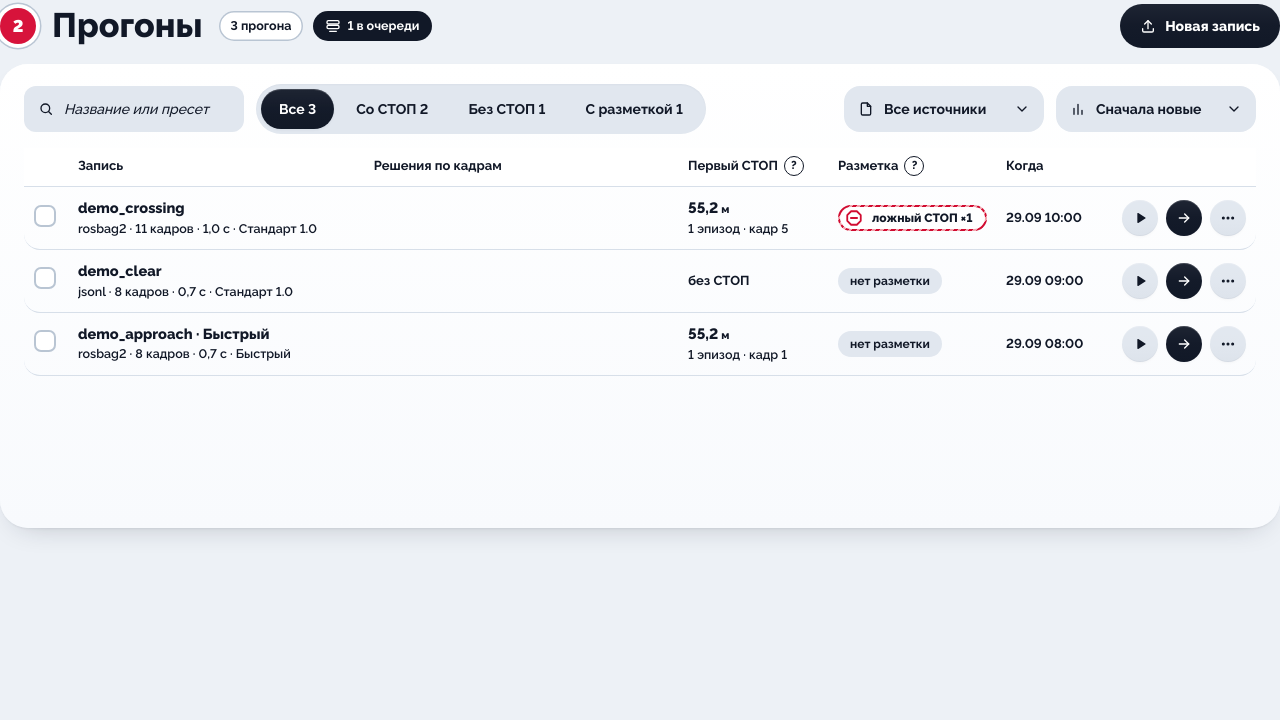
Прогоны › renames a run inline and deletes one after confirming
Expected: the link "demo_clear" is shown, [78,262,162,279]
Click the button named "Действия: demo_clear".
click(1228, 281)  # box [1210,263,1246,299]
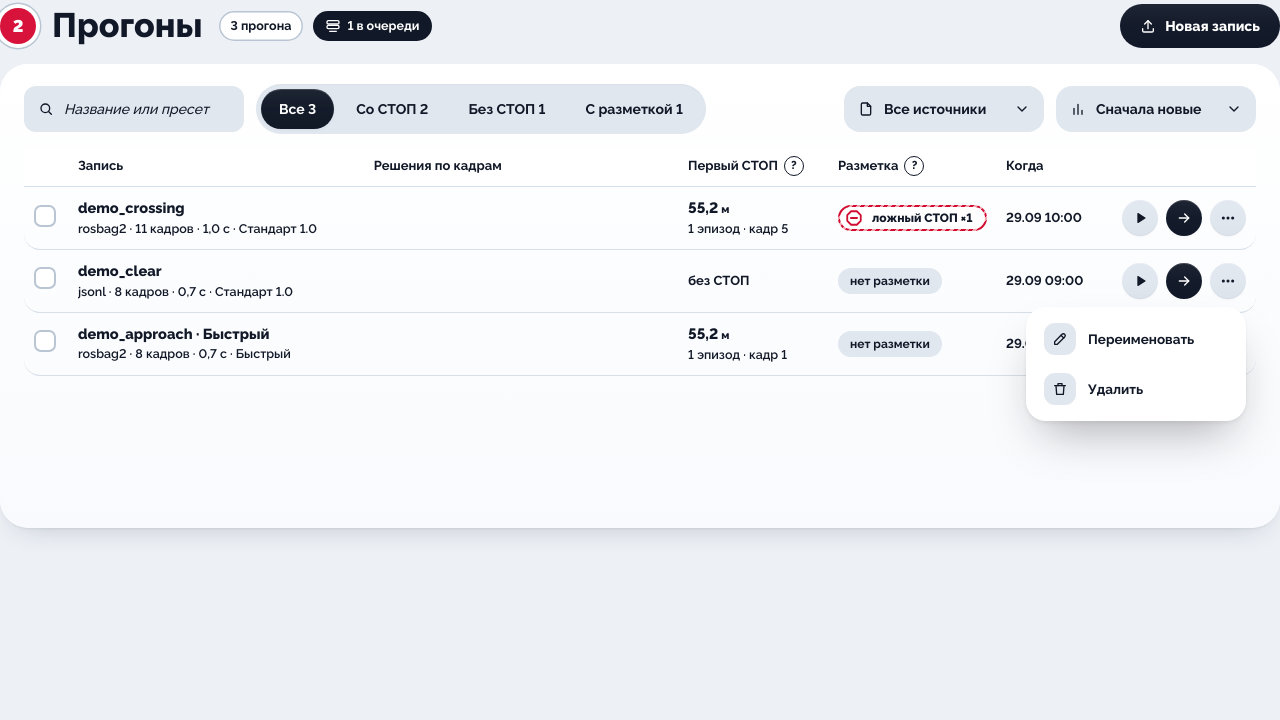
Click the menu item "Переименовать".
click(1136, 339)  # box [1034,315,1238,363]
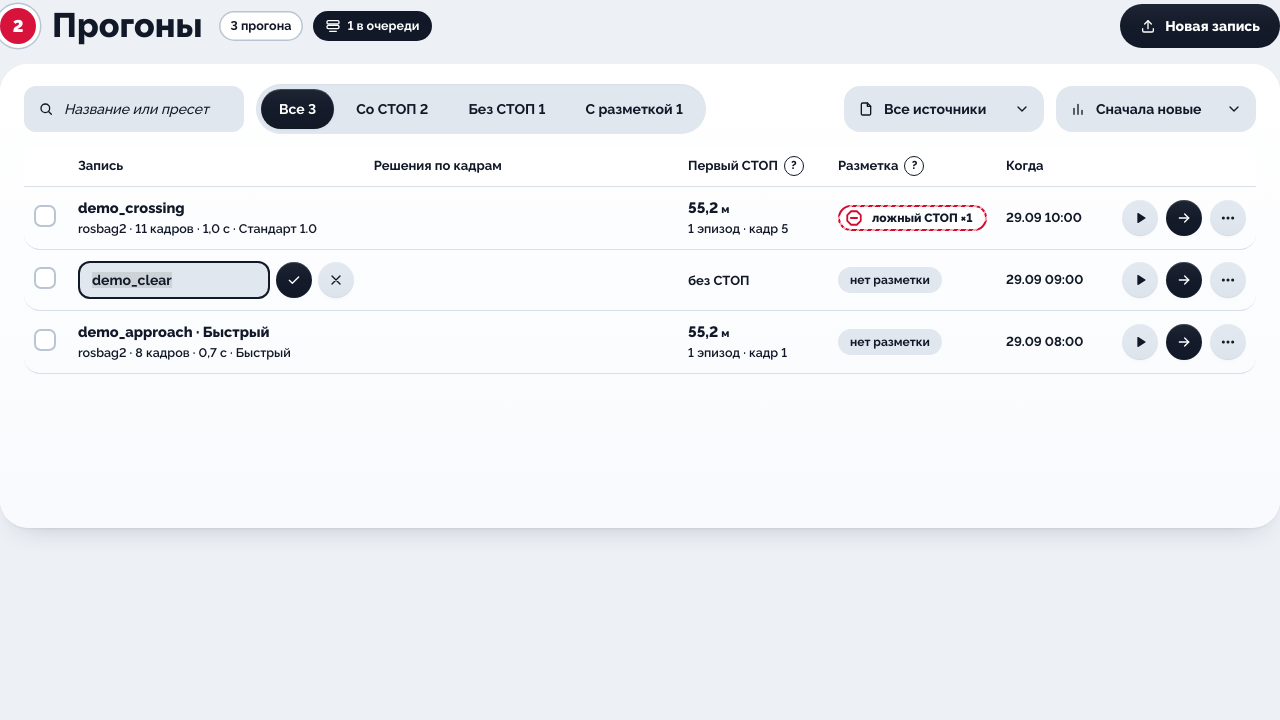
Replace the text in the field named "Новое название прогона" with "  Чистый путь " at (174, 280), box [92,261,256,299]
Press Enter in the field named "Новое название прогона", box [92,261,256,299]
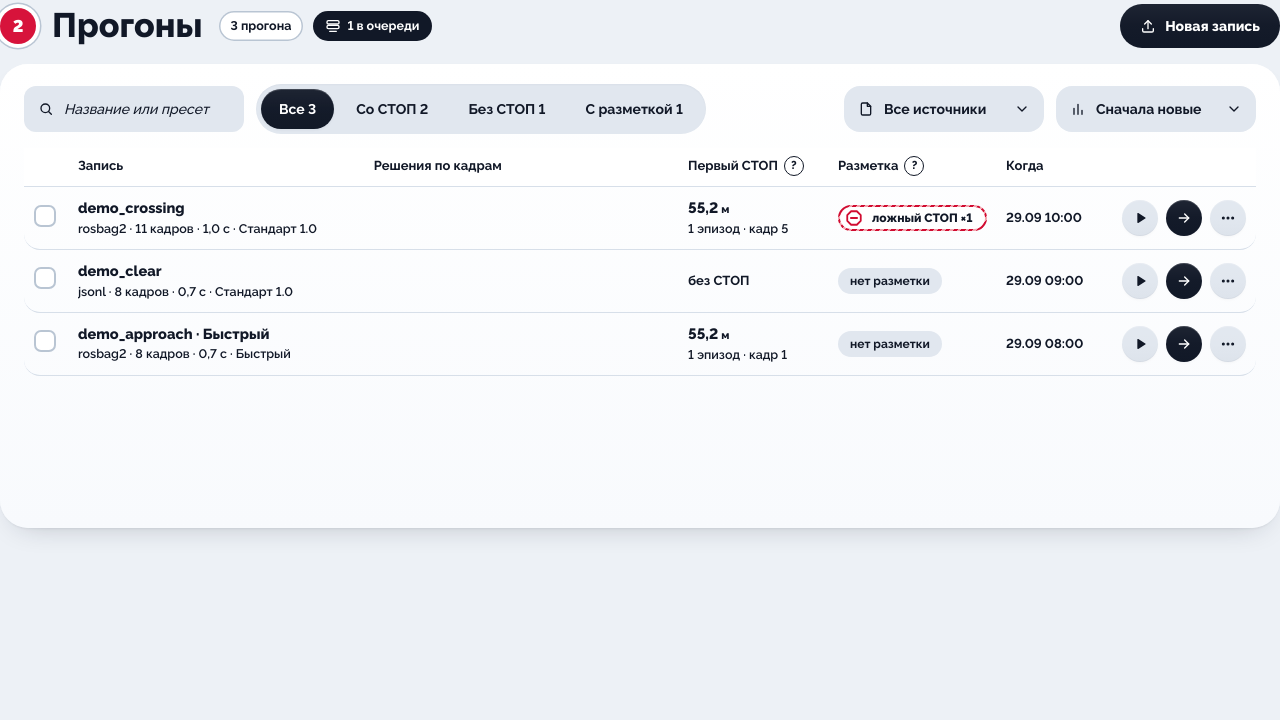
Click the button named "Действия: demo_approach · Быстрый".
click(1228, 344)  # box [1210,326,1246,362]
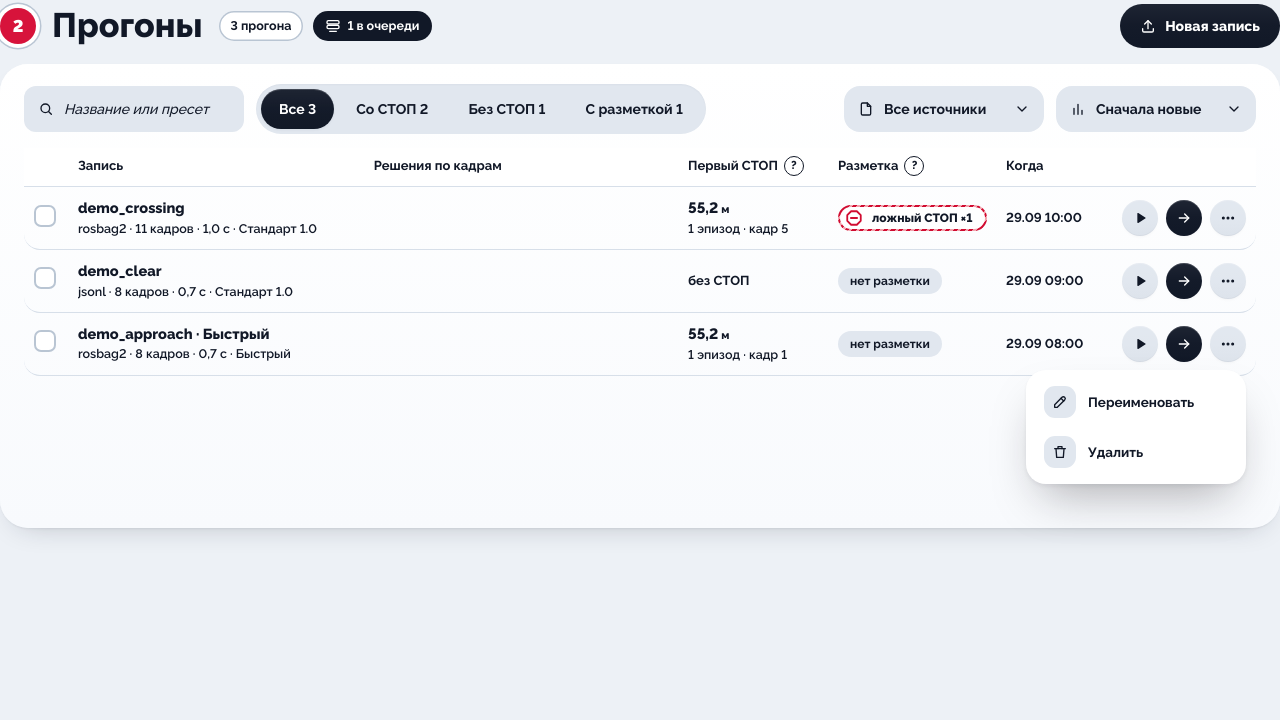
Click the menu item "Удалить".
click(1136, 452)  # box [1034,428,1238,476]
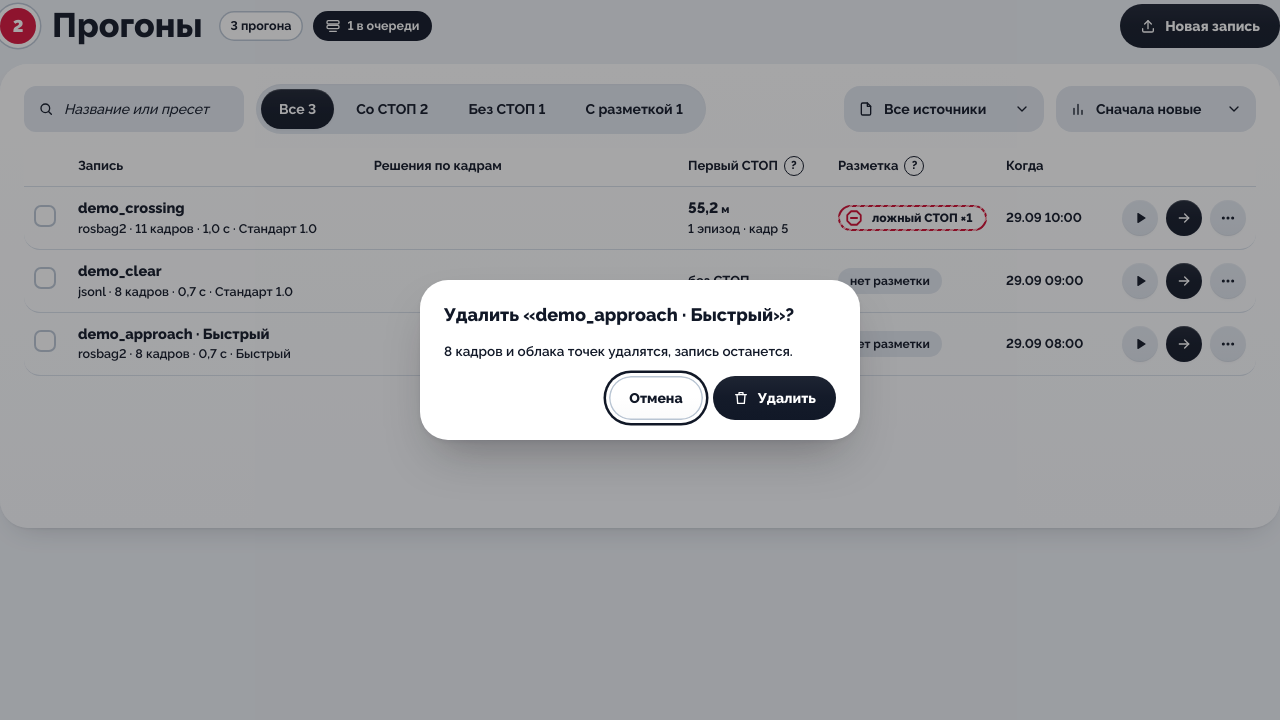
Expected: the heading "Удалить «demo_approach · Быстрый»?" is shown, [444,304,836,326]
Click the button "Удалить".
click(774, 398)  # box [713,376,836,420]
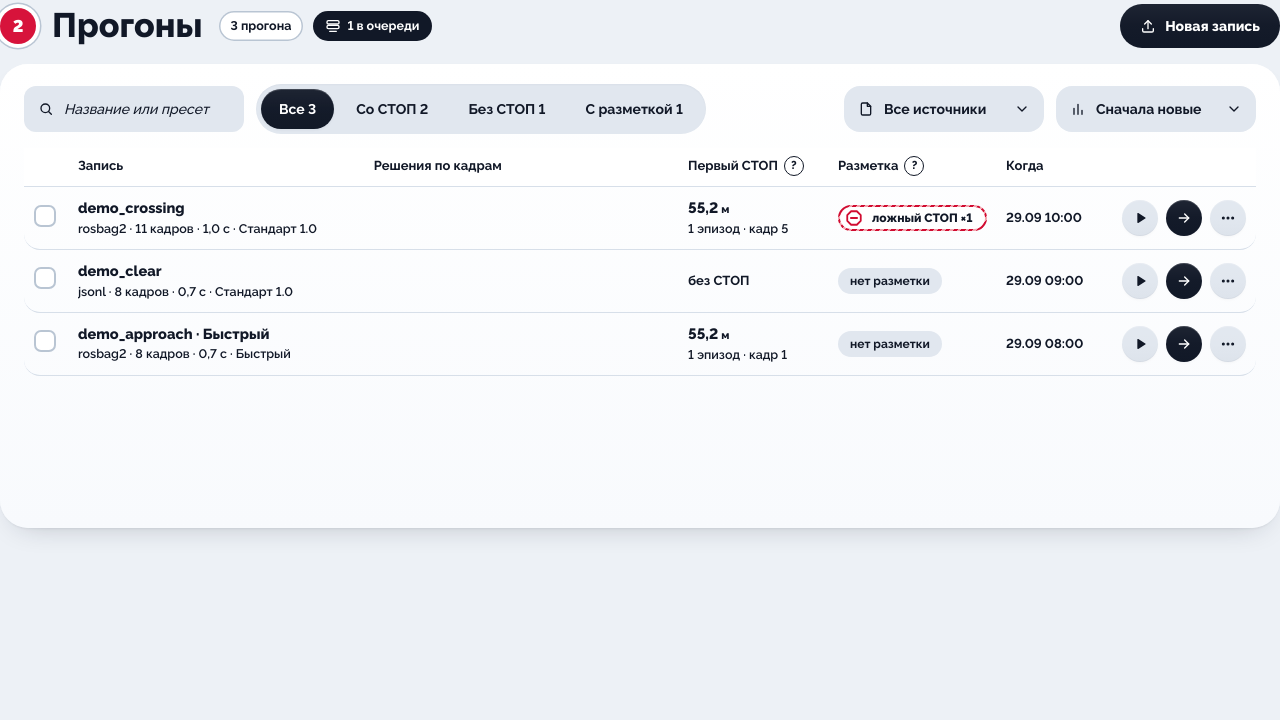
Expected: the dialog is gone
